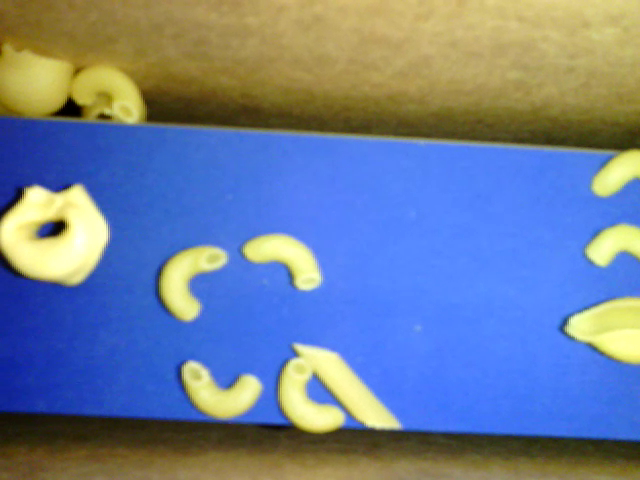elbow: (157, 245, 226, 320), (277, 358, 344, 432), (180, 360, 262, 417), (242, 234, 321, 291), (70, 63, 140, 122), (583, 221, 639, 268), (592, 147, 639, 196)
penne: (291, 341, 400, 428)
shell: (1, 43, 75, 115), (562, 296, 639, 364), (80, 93, 147, 123)
tortellini: (1, 184, 113, 286)
